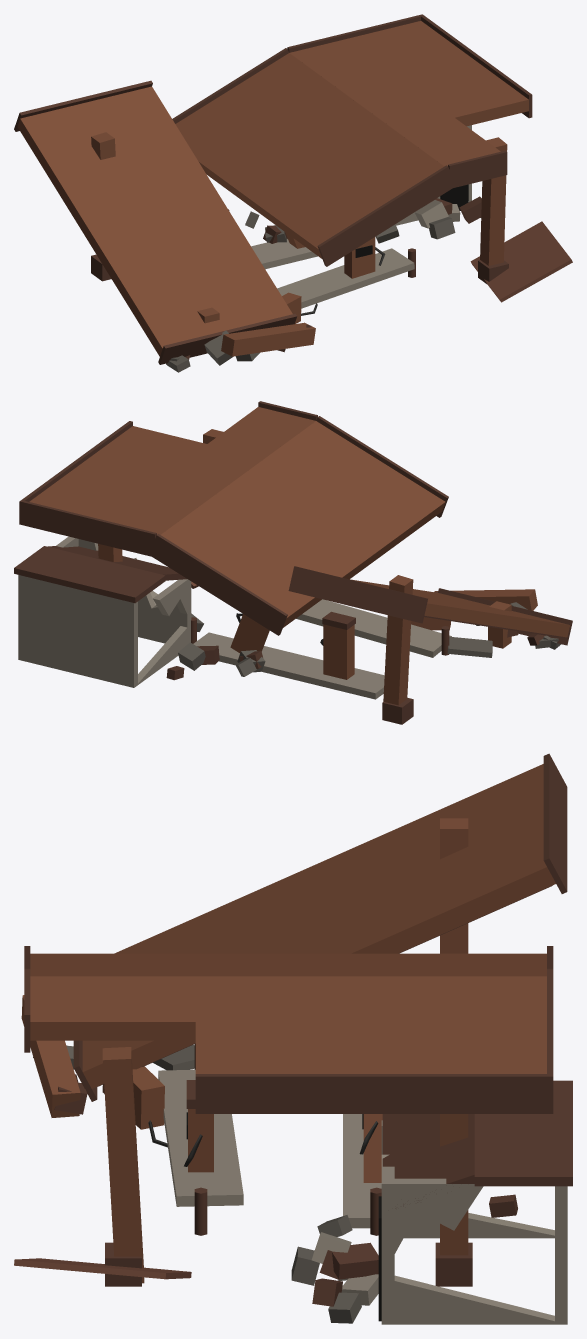
3 renders of one model, top to bottom at view 1: azimuth 30°, elevation 25°; view 2: azimuth 150°, elevation 25°; view 3: azimuth 270°, elevation 25°, orthographic. The views are drawn at different scales.
Parts seen in each view (by area): view 1: site_gas_station_ruin; view 2: site_gas_station_ruin; view 3: site_gas_station_ruin.
Boxes of the visible parts, left/top/right/bottom form: site_gas_station_ruin: left=14, top=14, right=572, bottom=372; site_gas_station_ruin: left=14, top=401, right=572, bottom=724; site_gas_station_ruin: left=14, top=753, right=572, bottom=1324.
Bounding box in the file's own units: 14.8 × 5.39 × 10.82.
